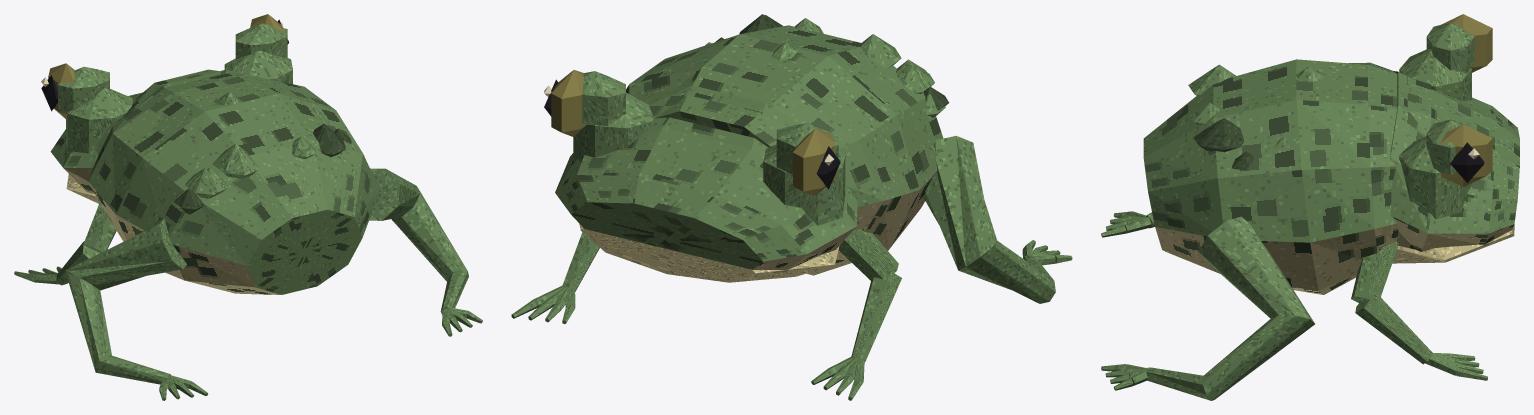
File: mon_strange_megafrog.glb
3 views of the same model, side by side, from view 1: azimuth 30°, elevation 25°; view 2: azimuth 150°, elevation 25°; view 3: azimuth 270°, elevation 25° (orthographic). The views are drawn at different scales.
Parts seen in each view (by area): view 1: closed_body; view 2: closed_body; view 3: closed_body.
Boxes of the visible parts, x1,y1,x2,y2 form: closed_body: (14, 14, 482, 400); closed_body: (511, 14, 1072, 400); closed_body: (1101, 14, 1519, 400).
Size of the model in its own units: 2.27 by 1.22 by 1.97.
1 material, 1 textured.
